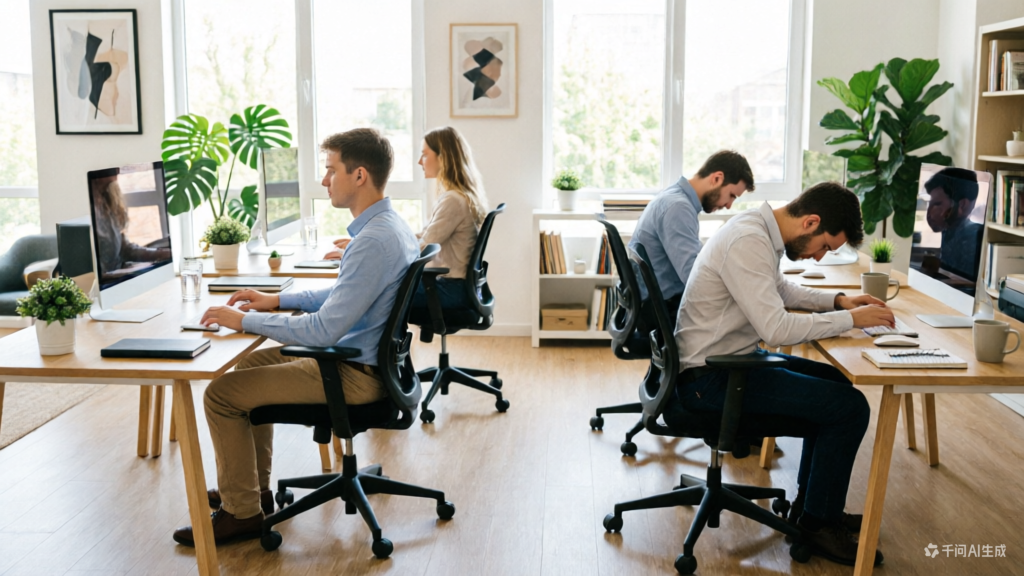sitting_bad: (689, 182, 875, 491), (610, 142, 752, 305)
sitting_good: (208, 118, 422, 475), (410, 118, 489, 276)
